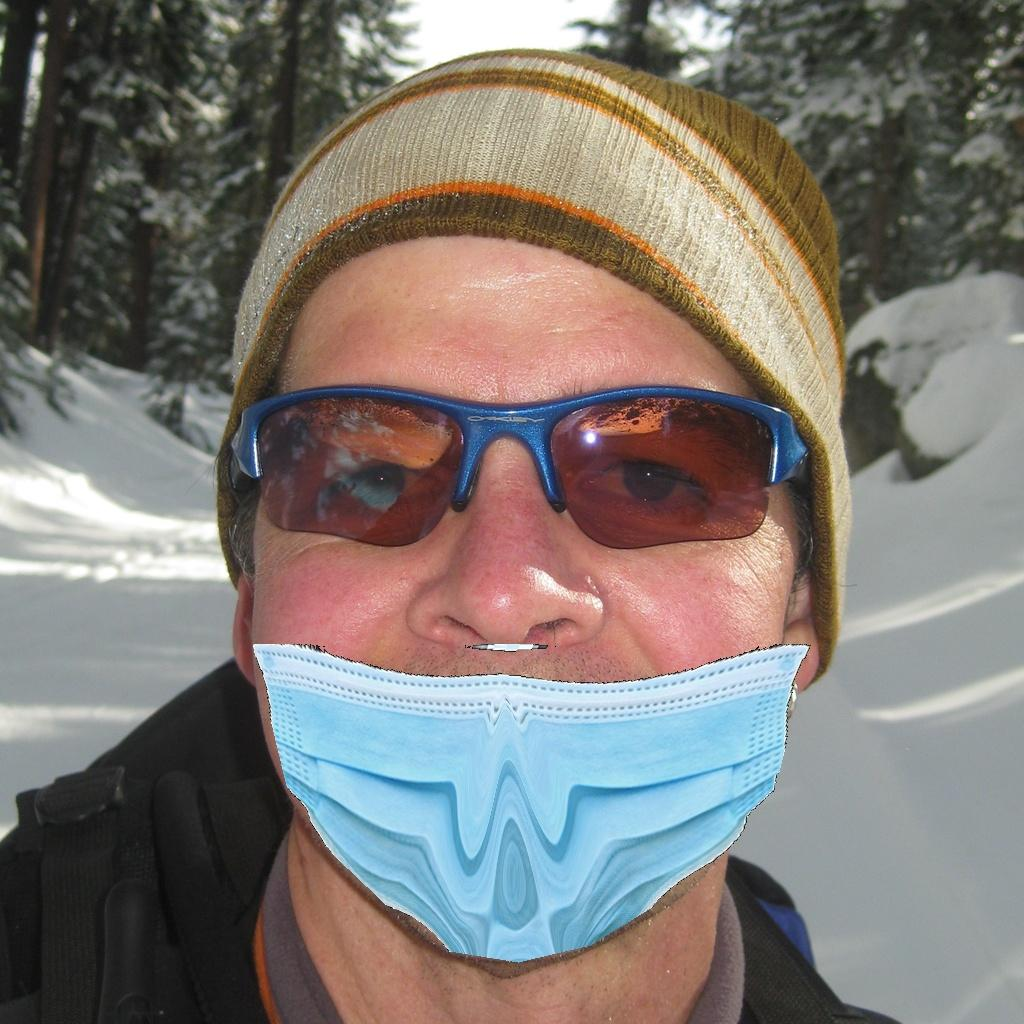Máscara Incorreta: (203, 267, 829, 968)
